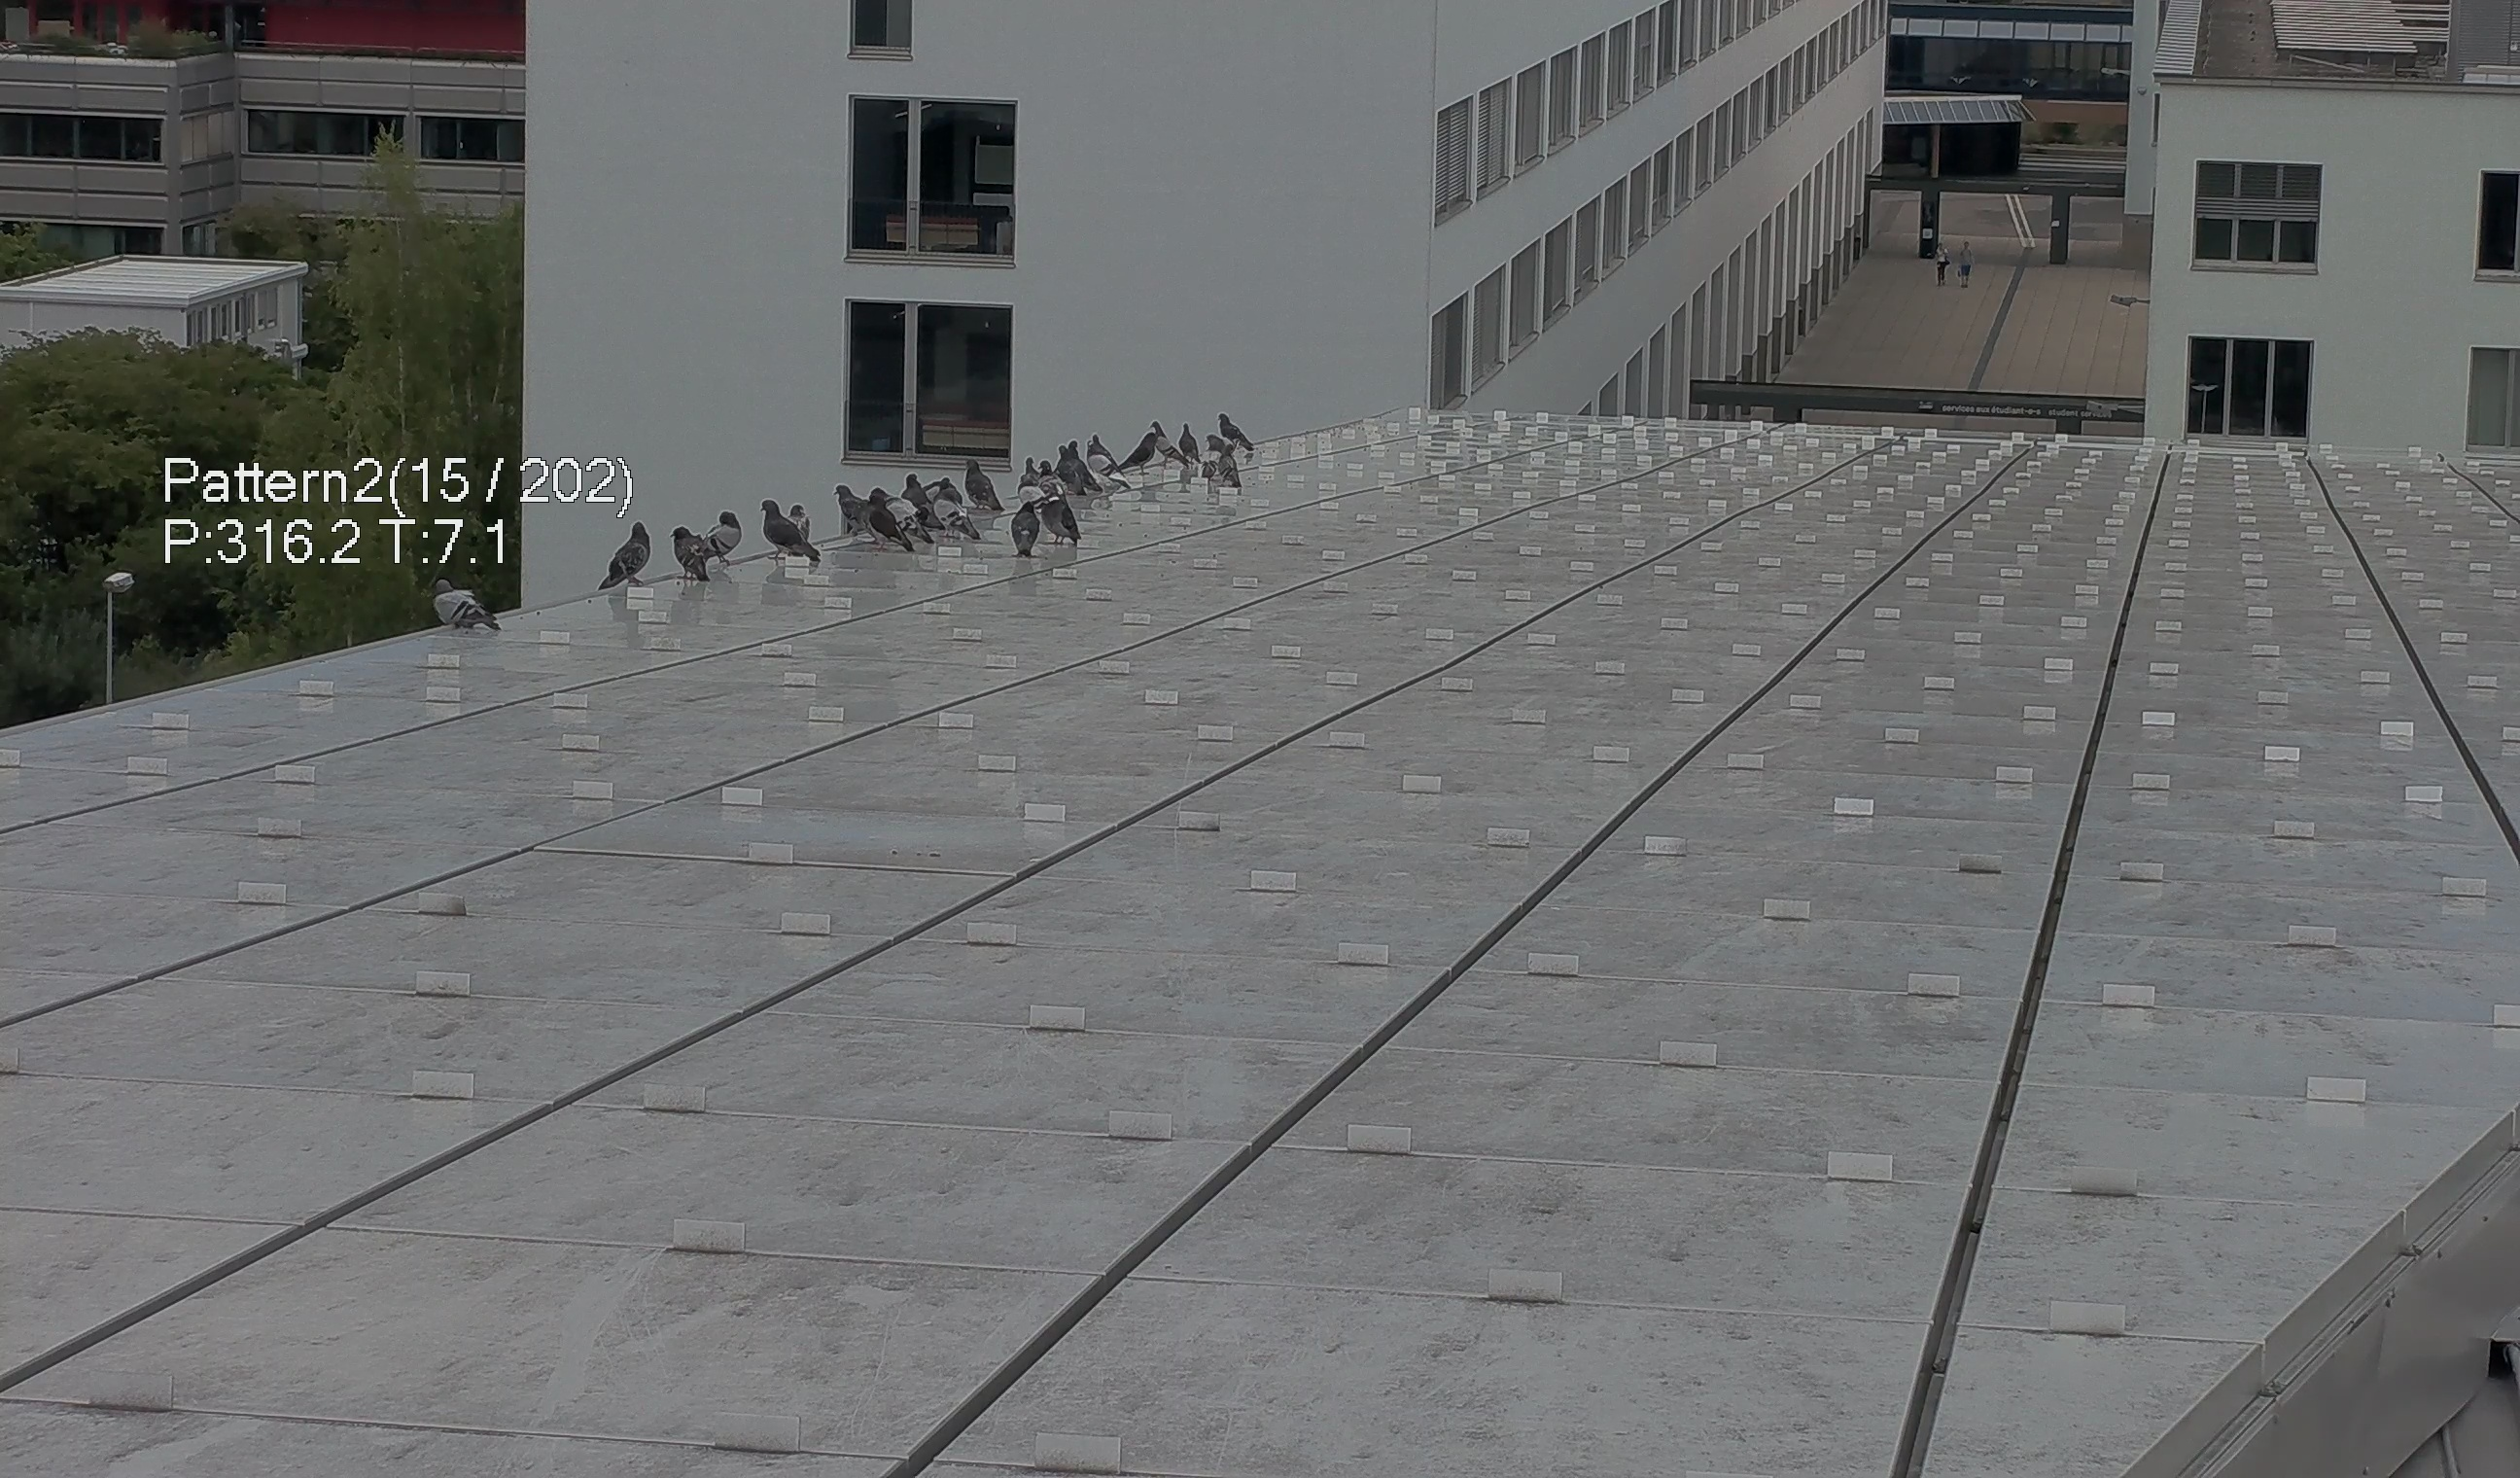Pigeon: (756, 494, 827, 577), (594, 519, 656, 596), (429, 574, 501, 639), (684, 510, 744, 574), (869, 491, 909, 558), (932, 487, 980, 542), (670, 524, 712, 584), (960, 456, 1004, 510), (1045, 489, 1085, 544), (1008, 500, 1041, 565), (1089, 440, 1131, 491), (1059, 445, 1099, 494), (1117, 431, 1159, 477), (1148, 417, 1185, 465), (1213, 408, 1252, 449), (830, 479, 862, 526), (1217, 442, 1242, 489), (1178, 422, 1203, 465), (902, 466, 930, 501), (786, 501, 812, 533), (1020, 454, 1039, 479)
